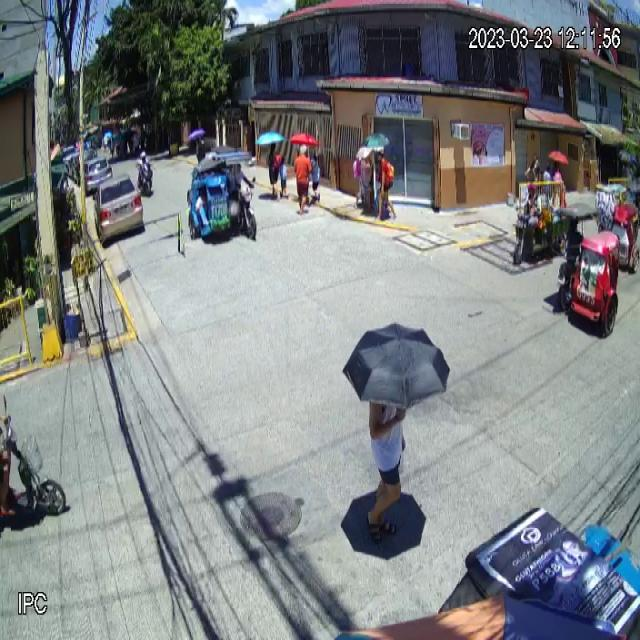Car: (94, 174, 144, 242)
Tricycle: (556, 205, 620, 337), (187, 145, 257, 246)
